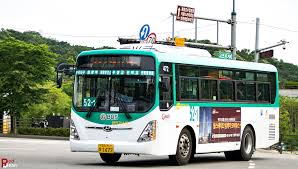bnum: (82, 97, 97, 107)
